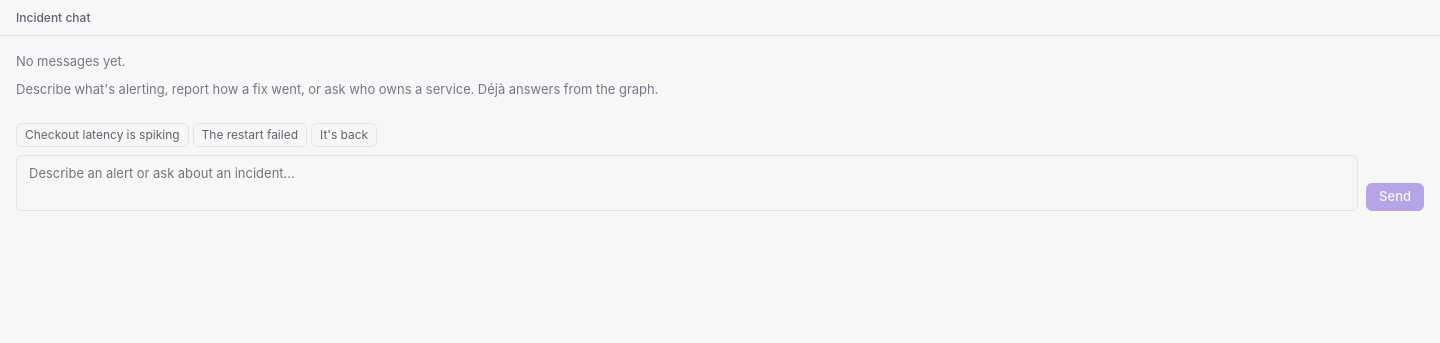
it: Chat › shows a useful error without any assistant reply, then retries the same message once
Type "it's back" into the text box named "Message Déjà" at x=687, y=183, box [16,155,1358,211]
Then press Enter
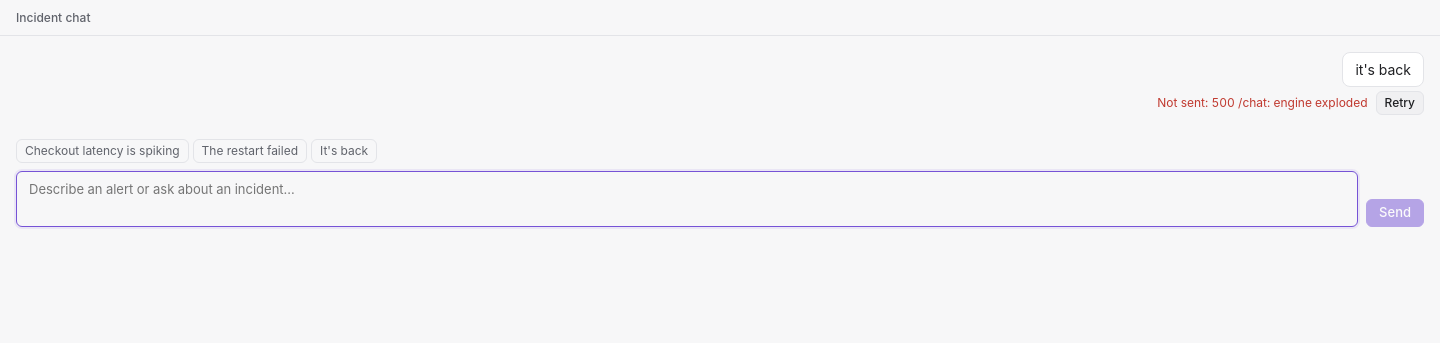
Now the message shows "Not sent: 500 /chat: engine exploded", box [1157,91,1424,115]
Click the button "Retry" at x=1400, y=103, box [1376,91,1424,115]
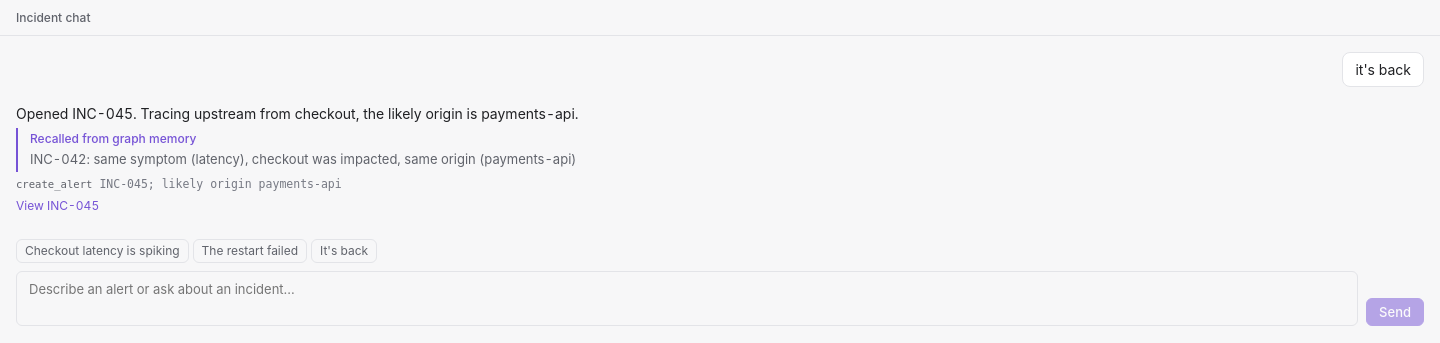
Now the text "Opened INC-045. Tracing upstream from checkout, the likely origin is payments-api." is shown, box [16,105,579,122]
Now the message "Not sent: 500 /chat: engine exploded Retry" is gone
Now the text "it's back" is shown once, box [1342,52,1424,87]
